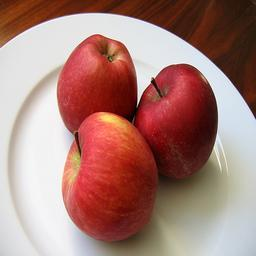apple: (62, 113, 158, 247), (136, 63, 219, 184), (52, 33, 137, 136)
